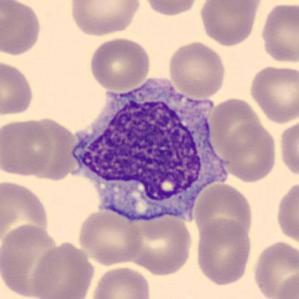Monocyte: (61, 75, 227, 228)
RBC: (1, 222, 63, 298), (125, 212, 194, 277), (194, 216, 254, 286), (29, 239, 95, 299), (76, 208, 144, 266), (192, 181, 255, 242), (0, 176, 51, 250), (87, 36, 153, 92), (166, 39, 228, 98), (25, 117, 78, 184), (207, 96, 262, 160), (222, 123, 278, 183), (0, 116, 54, 178), (198, 0, 262, 47), (248, 64, 298, 124), (250, 238, 298, 299), (67, 0, 143, 37), (258, 2, 298, 65), (0, 0, 43, 57), (89, 264, 153, 299), (0, 58, 36, 117), (274, 178, 298, 248), (278, 117, 298, 180), (141, 0, 201, 17), (273, 269, 298, 299)
